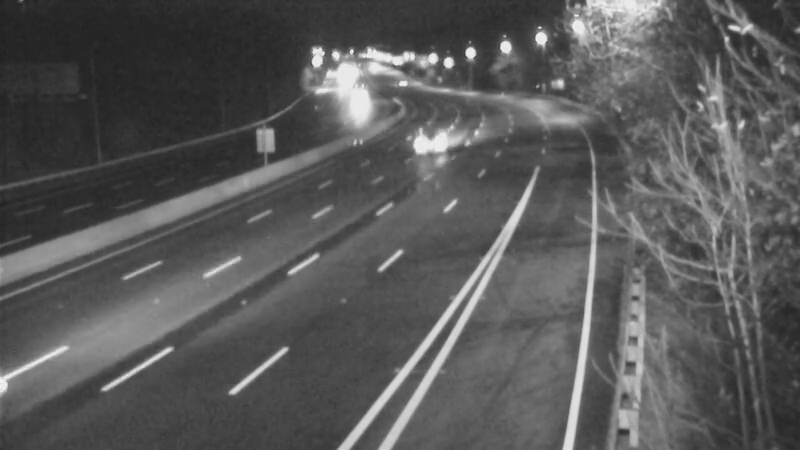vehicle: (376, 60, 426, 110), (418, 113, 468, 163), (328, 84, 378, 134)
